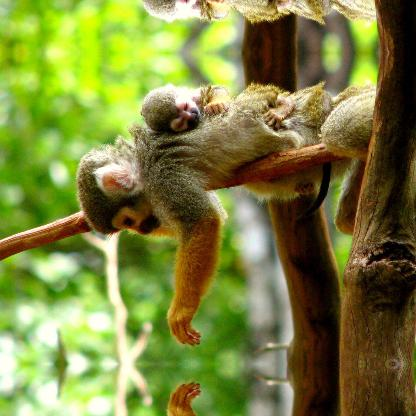Monkey: (74, 82, 378, 345), (138, 78, 314, 132), (138, 0, 314, 26)
